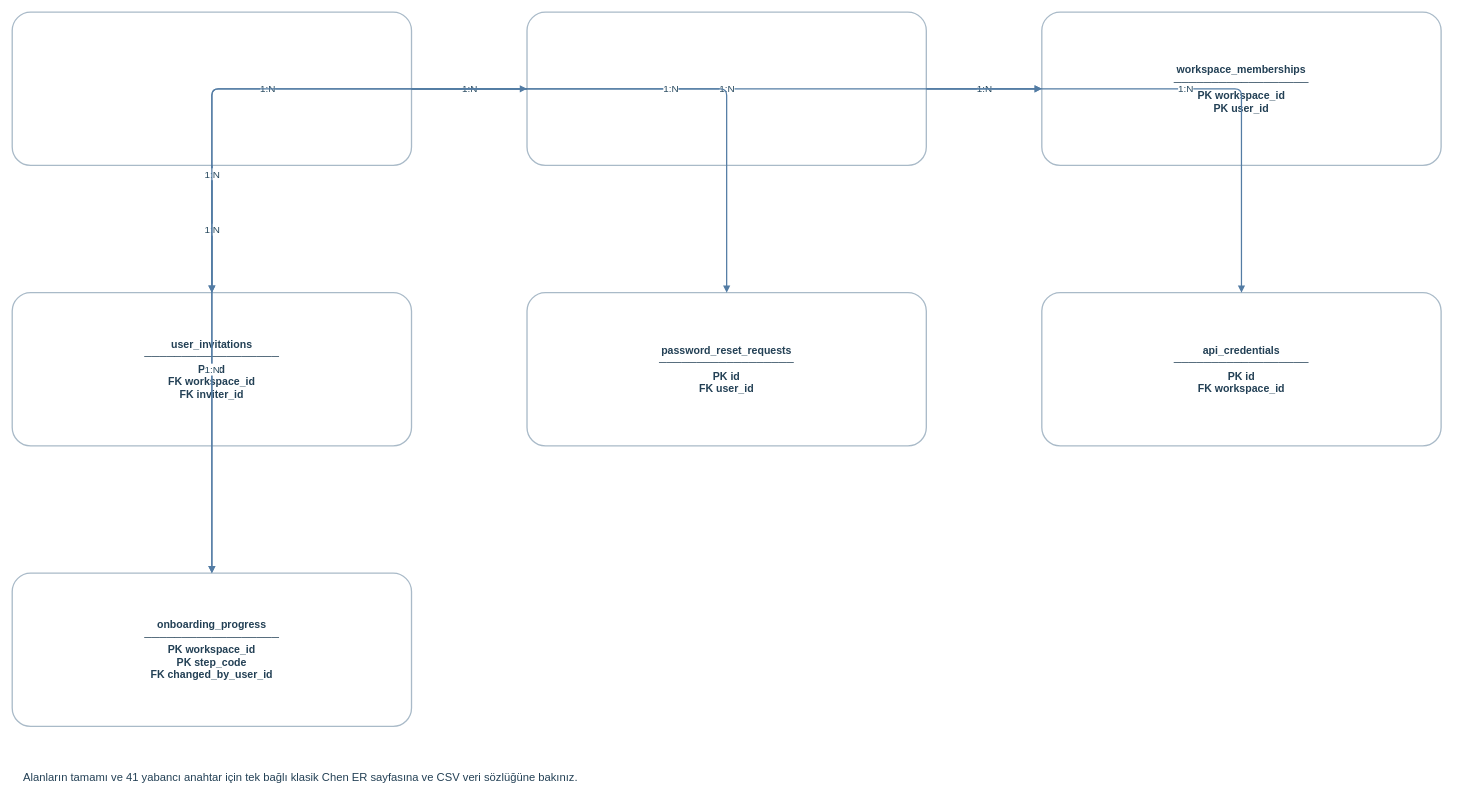
Some shapes in this 1478 by 806 pixel diagram are drawn without their labels. Here are the shapes that lost their labels. From the top down, the centre of each, then its label:
point (211, 88): users ────────────────── PK id email
point (726, 88): workspaces ────────────────── PK id FK owner_user_id
